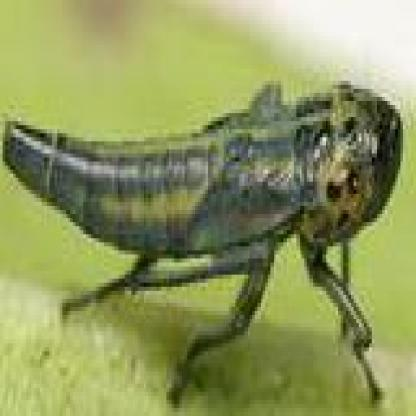Green-Leafhopper: (3, 74, 401, 410)
